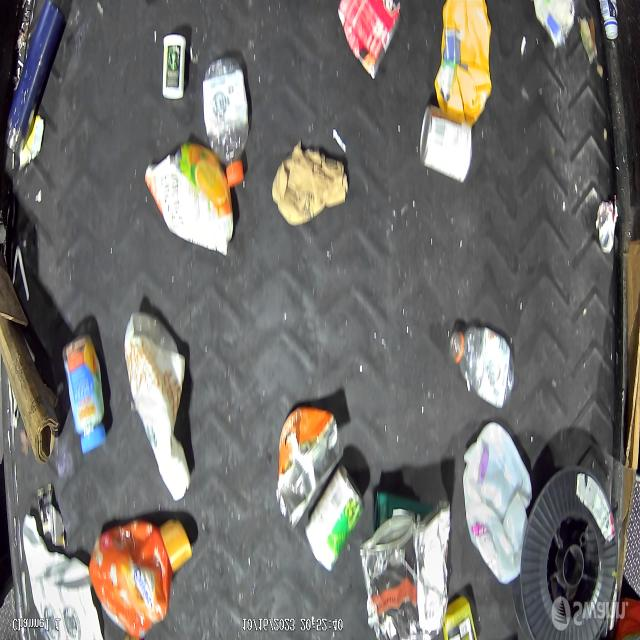can: (276, 404, 345, 532), (304, 462, 366, 573), (338, 0, 402, 81), (419, 103, 473, 183), (596, 199, 616, 254)
milk_jug: (461, 421, 534, 587)
non_white_jug: (88, 517, 193, 640), (433, 0, 493, 127)
plastic_bottle: (202, 54, 250, 188), (448, 324, 516, 410)
